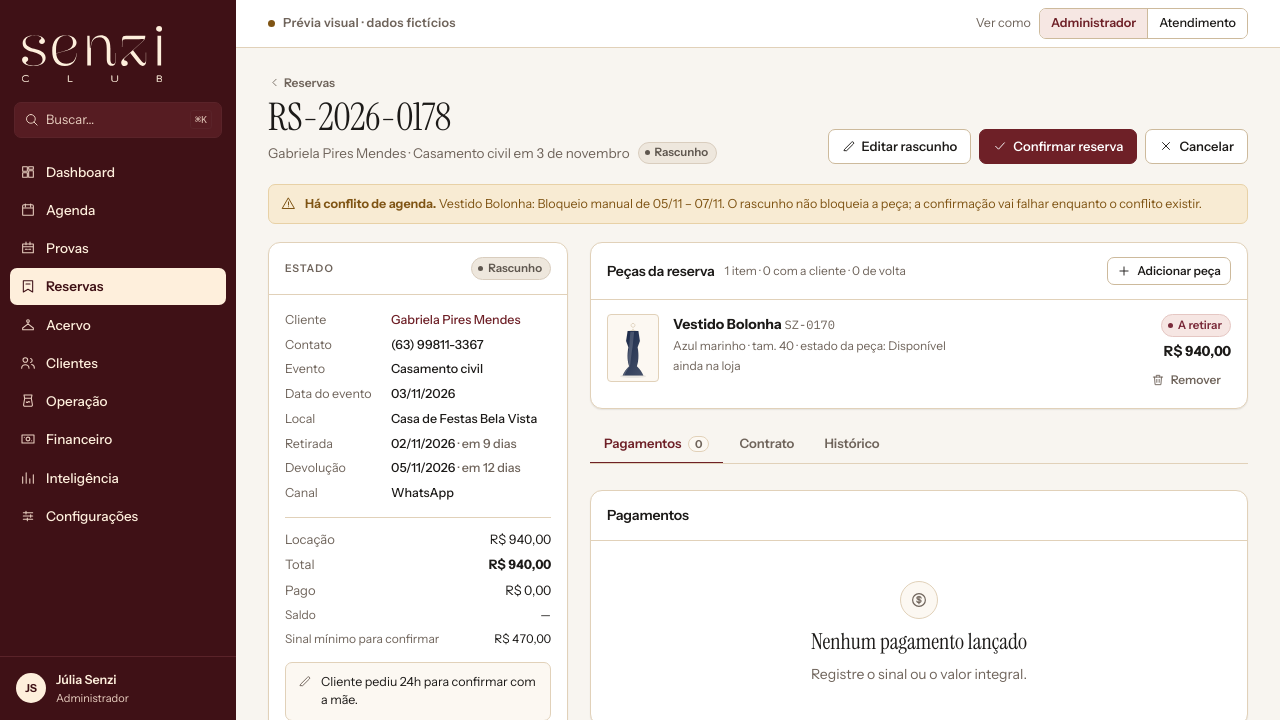
Scenario: Reservas — ficha › confirmar com contrato não assinado: botão desabilitado e oferece "Marcar como assinado"
The image size is (1280, 720).
Click the button "Confirmar reserva" at [1058, 146], box [979,129,1137,164]
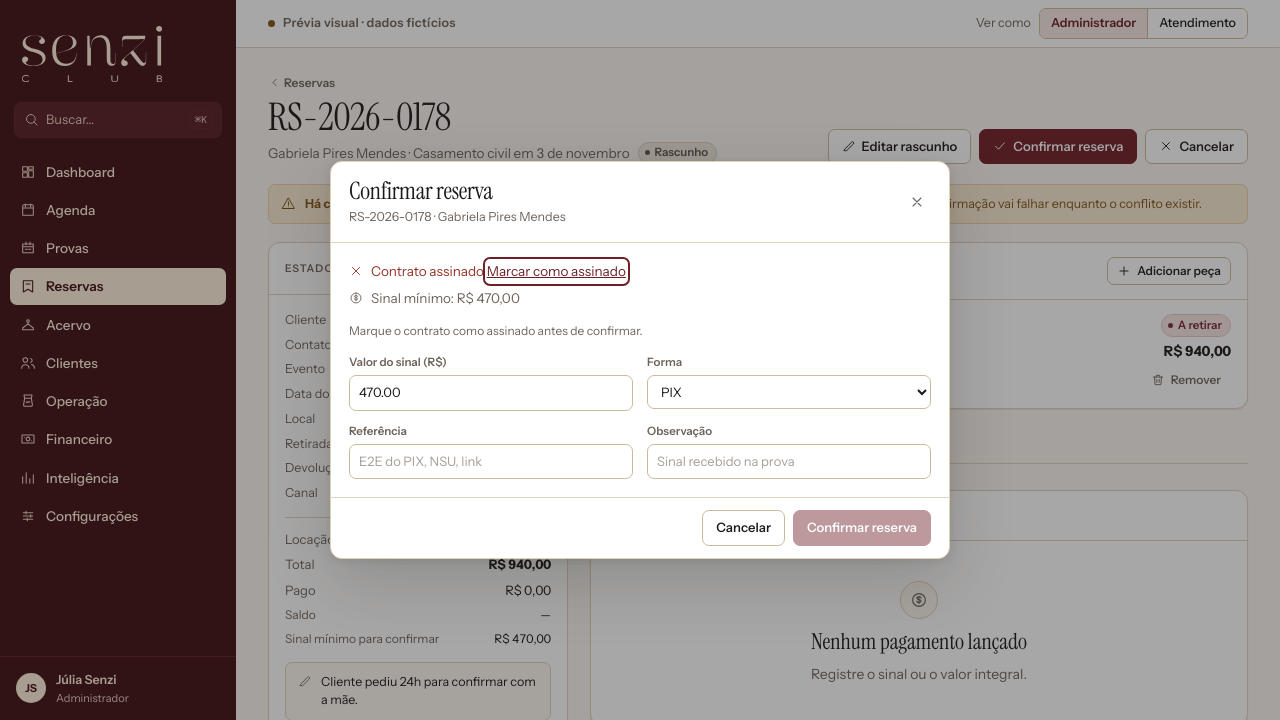
Check: the button "Confirmar reserva" is disabled, box [793,510,931,546]
Check: the button "Marcar como assinado" is shown, box [487,261,626,282]
